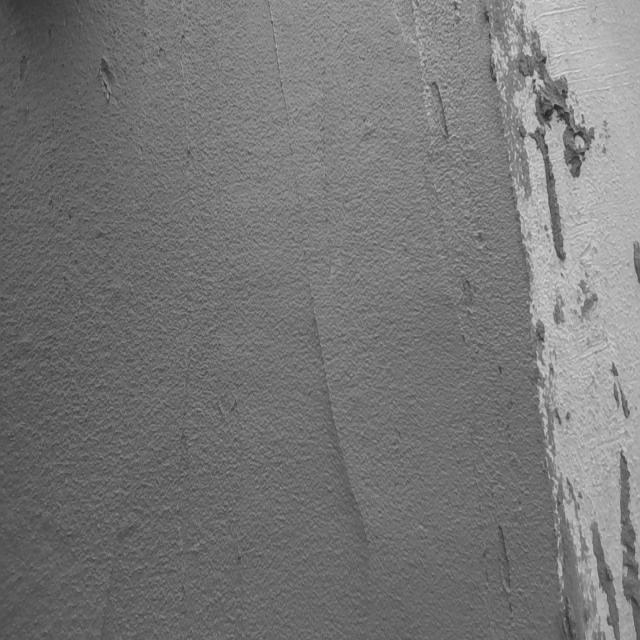trowels marks: (265, 9, 376, 575)
